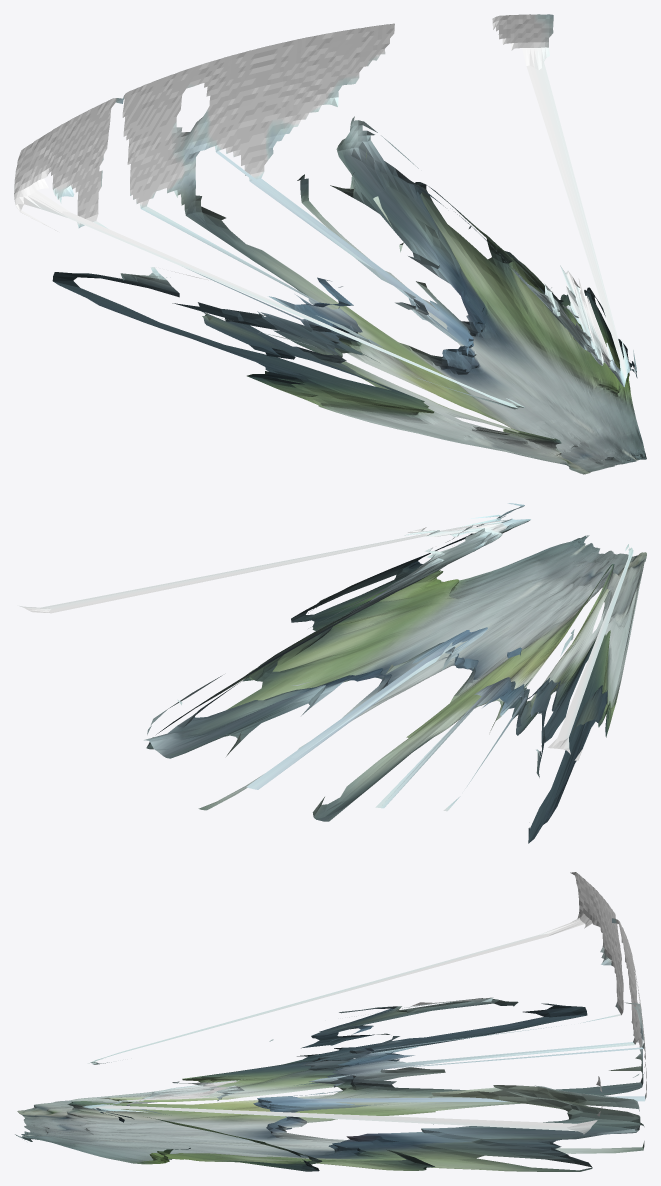
3 views of the same model, one above another, from view 1: azimuth 30°, elevation 25°; view 2: azimuth 150°, elevation 25°; view 3: azimuth 270°, elevation 25° (orthographic). The views are drawn at different scales.
Visible parts, largest first — view 1: defaultobject; view 2: defaultobject; view 3: defaultobject.
Boxes of the visible parts, left/top/right/bottom form: defaultobject: left=14, top=14, right=646, bottom=474; defaultobject: left=19, top=503, right=646, bottom=843; defaultobject: left=15, top=872, right=646, bottom=1171.
Bounding box in the file's own units: 39.25 × 12.51 × 45.12.
1 material, 1 textured.
